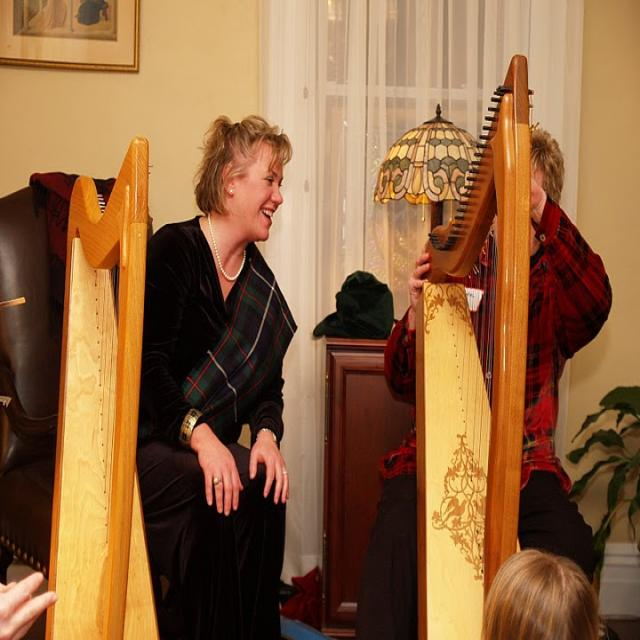harp: (402, 50, 540, 639), (55, 134, 174, 639)
